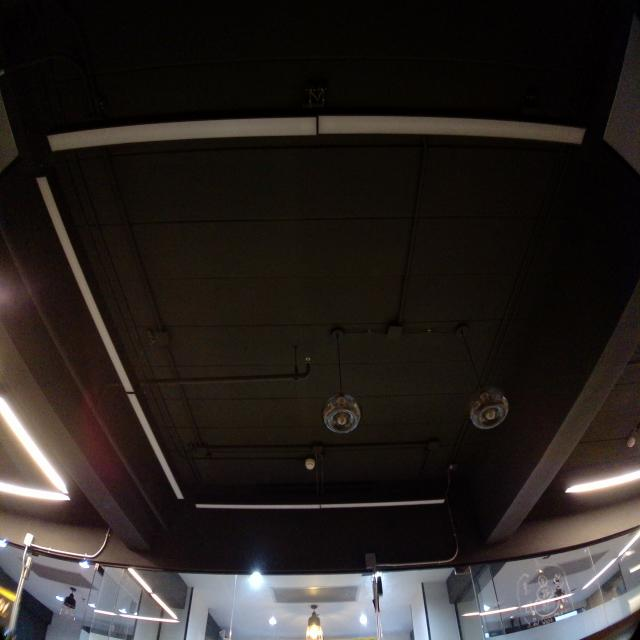lamp2_off: (30, 171, 191, 508), (40, 101, 595, 163), (194, 493, 453, 515)
